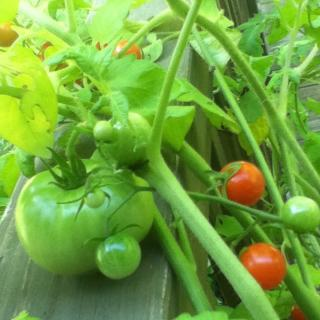tomato: (10, 152, 162, 272), (220, 157, 268, 208), (92, 230, 142, 278), (104, 109, 152, 158), (240, 243, 286, 289), (279, 196, 319, 230), (112, 37, 140, 59), (0, 24, 19, 46), (292, 305, 308, 319)
